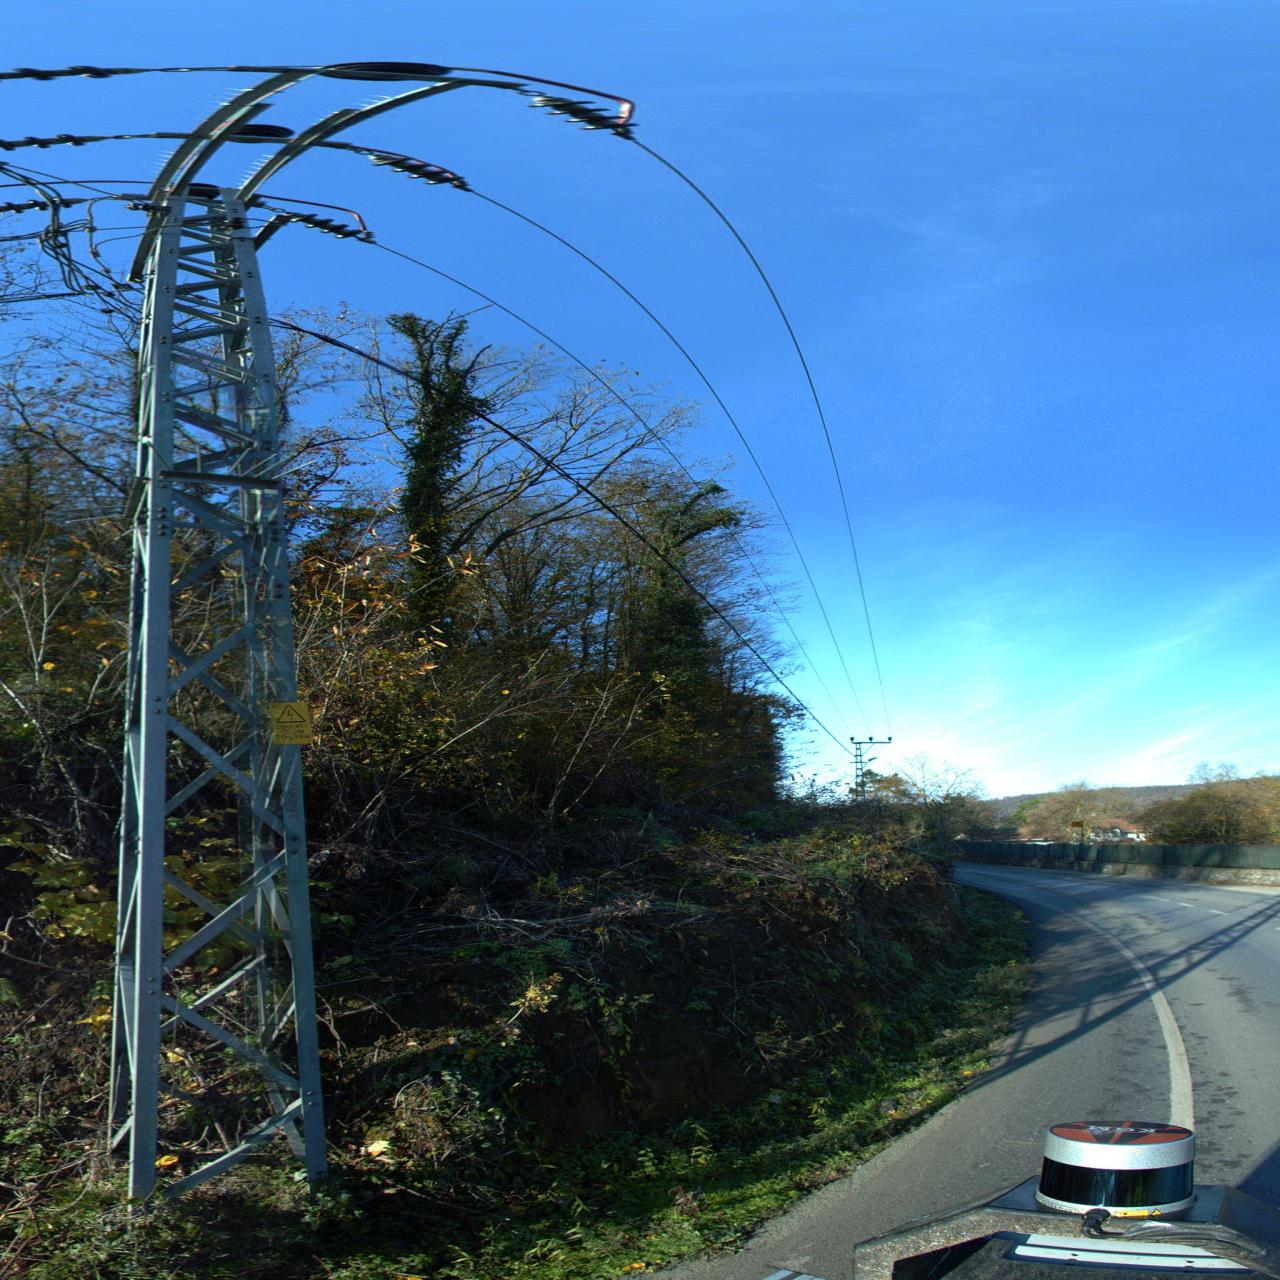Utility Pole Information Plate: (268, 702, 314, 745)
